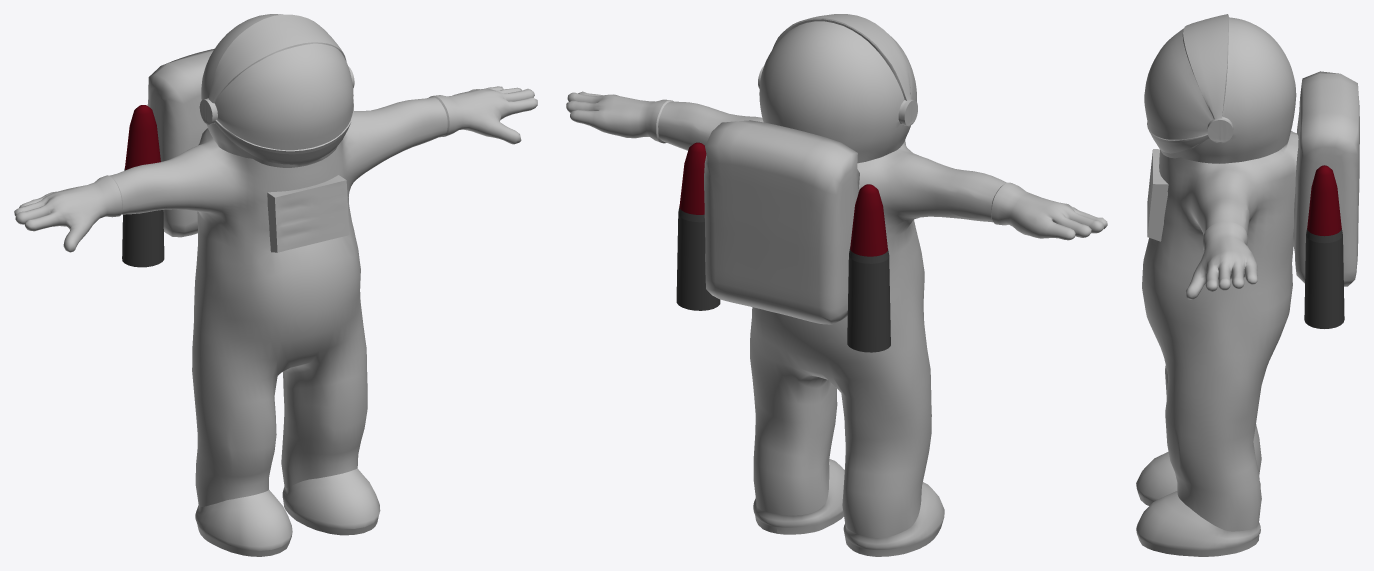
File: Astronought01.fbx
The picture shows the model from 3 angles, left to right: view 1: azimuth 30°, elevation 25°; view 2: azimuth 150°, elevation 25°; view 3: azimuth 270°, elevation 25°; orthographic projection. The views are drawn at different scales.
Parts seen in each view (by area): view 1: Astr01LowPoly2, Astr01LowPoly, Astr01LowPoly3, Astr01LowPoly6, Astr01LowPoly1, Astr01LowPoly5, Astr01LowPoly4; view 2: Astr01LowPoly2, Astr01LowPoly3, Astr01LowPoly1, Astr01LowPoly5, Astr01LowPoly6; view 3: Astr01LowPoly2, Astr01LowPoly3, Astr01LowPoly1, Astr01LowPoly6, Astr01LowPoly, Astr01LowPoly5, Astr01LowPoly4.
Part boxes in pixels (x1,y1,x2,y2): Astr01LowPoly2: (109,97,447,507); Astr01LowPoly: (214,43,353,150); Astr01LowPoly3: (122,48,214,267); Astr01LowPoly6: (195,468,380,556); Astr01LowPoly1: (199,14,354,167); Astr01LowPoly5: (14,86,537,252); Astr01LowPoly4: (267,175,349,252); Astr01LowPoly2: (658,101,1007,537); Astr01LowPoly3: (676,120,890,352); Astr01LowPoly1: (758,14,917,163); Astr01LowPoly5: (566,91,1107,240); Astr01LowPoly6: (753,459,944,556); Astr01LowPoly2: (1142,131,1298,531); Astr01LowPoly3: (1292,71,1359,328); Astr01LowPoly1: (1147,14,1296,163); Astr01LowPoly6: (1136,451,1260,556); Astr01LowPoly: (1144,28,1213,139); Astr01LowPoly5: (1185,221,1257,299); Astr01LowPoly4: (1147,149,1168,241).
Bounding box in the file's own units: 7.93 × 7.28 × 2.96.
